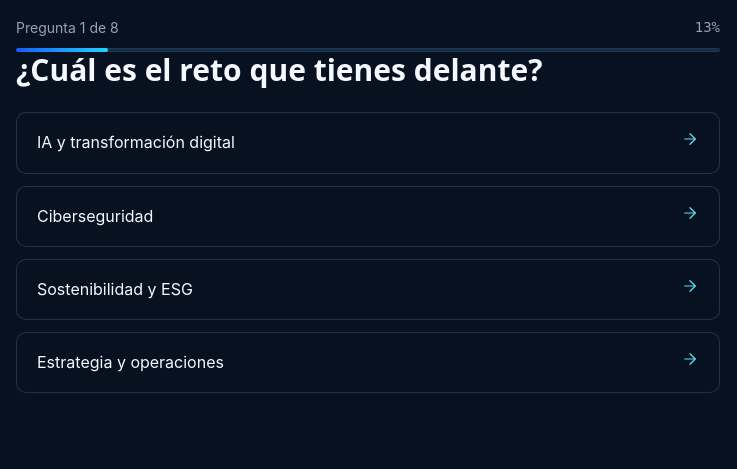
Test: FormWizard — se ve por dónde va › el total crece a 9 al entrar en la línea de IA, que tiene una pregunta más
The image size is (737, 469).
Click the button "IA y transformación digital".
click(136, 142)  # box [16,112,720,174]
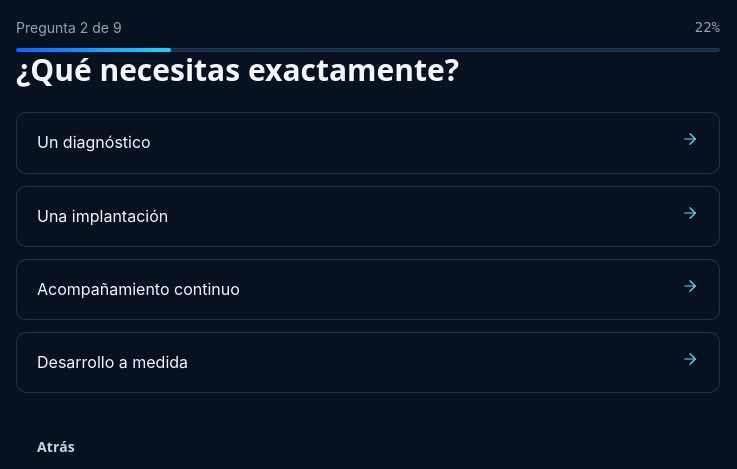
Now the heading reads "Pregunta 2 de 9", box [16,16,122,40]
